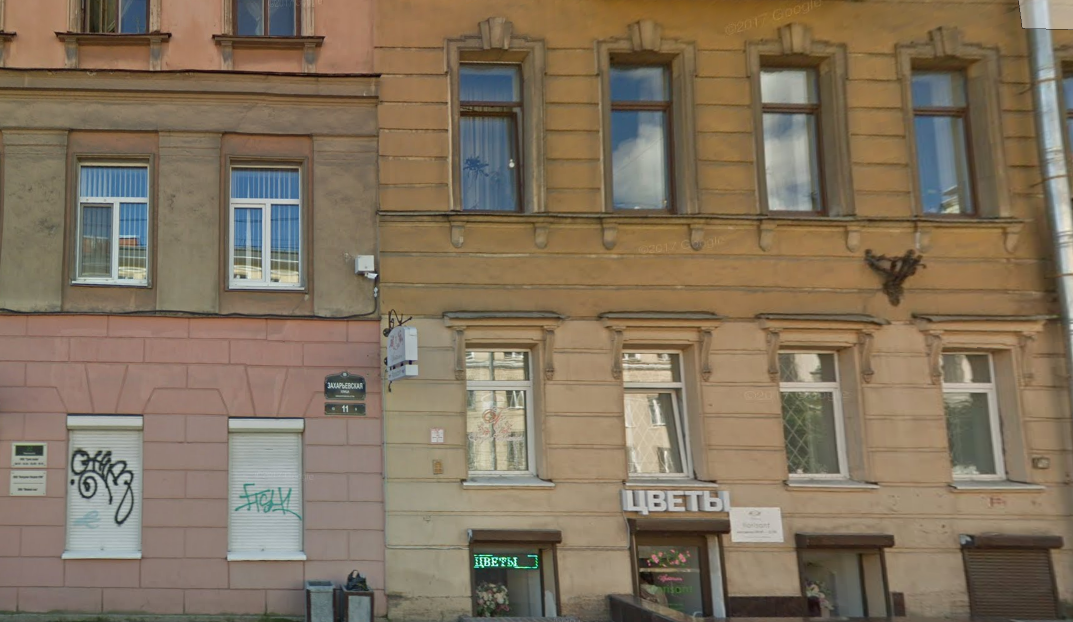cantilever: (379, 296, 417, 398)
signboard: (622, 484, 731, 514)
window: (906, 60, 978, 215), (65, 416, 143, 557), (226, 421, 306, 556), (758, 56, 824, 215), (456, 60, 523, 214), (72, 162, 154, 282), (933, 348, 1004, 480), (608, 60, 667, 212), (466, 346, 531, 480), (779, 350, 844, 483), (227, 168, 299, 283), (630, 346, 688, 474)
